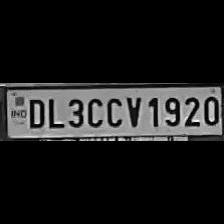0: (201, 94, 219, 126)
1: (143, 94, 161, 128)
2: (180, 94, 200, 128)
3: (64, 96, 84, 128)
9: (161, 94, 181, 128)
C: (84, 94, 104, 128), (104, 94, 122, 128)
D: (25, 96, 45, 128)
L: (44, 94, 64, 130)
V: (123, 94, 143, 128)
